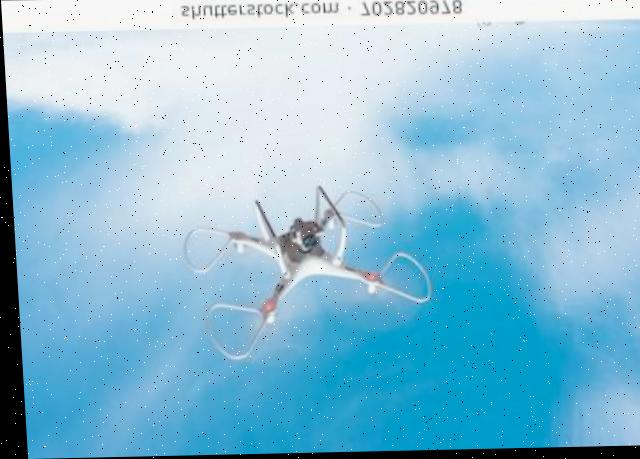drone: (160, 174, 440, 368)
